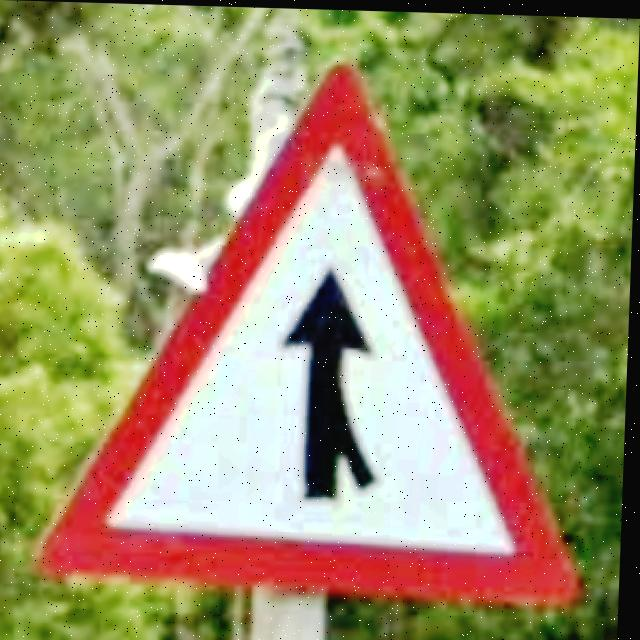rightmerge: (42, 61, 583, 606)
